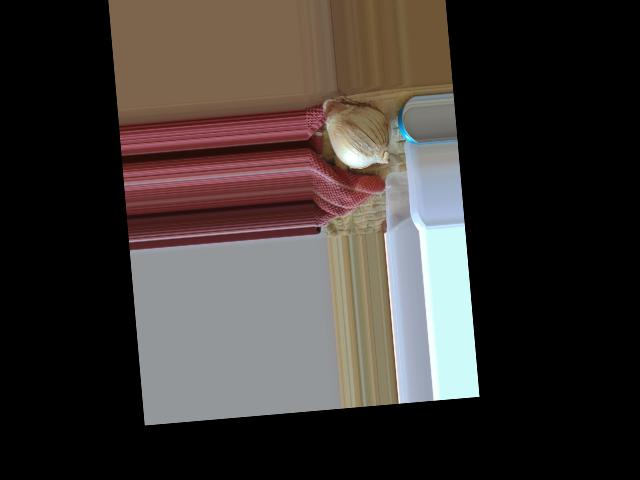onion: (321, 95, 394, 170)
